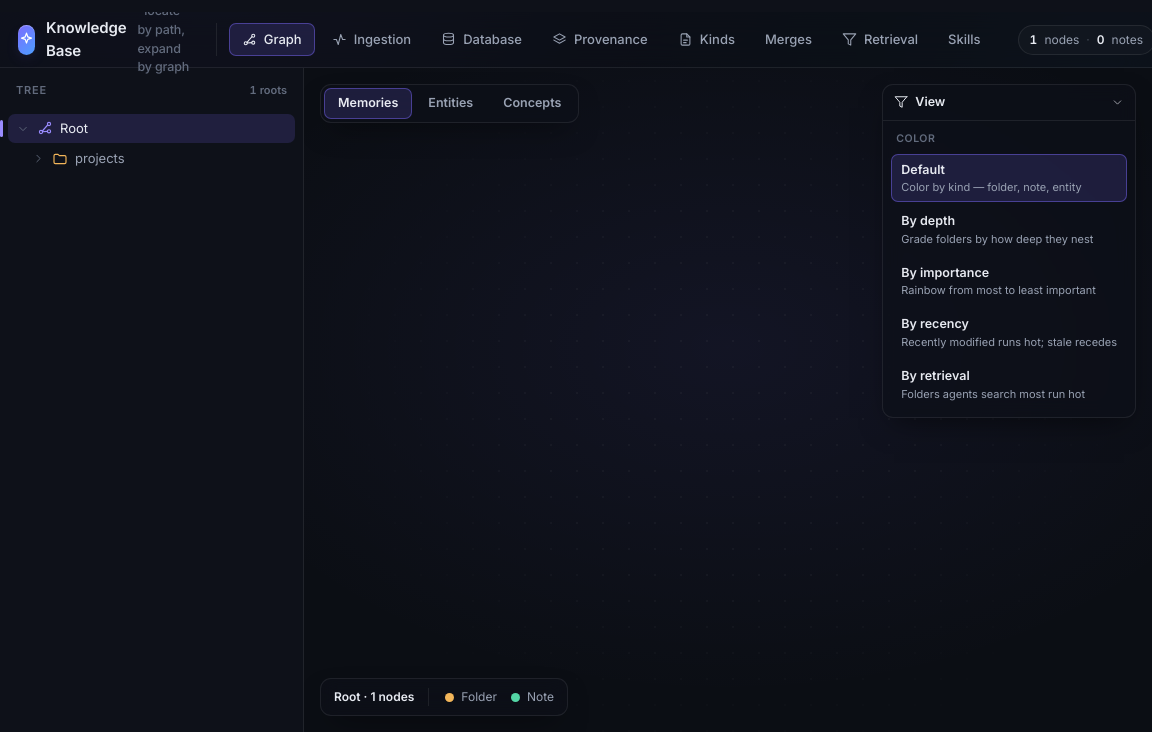
Test: App › switches to the isolated entity graph via the Entities toggle
expect the text "projects" is shown: met, box [75,149,125,168]
Step 1. Click the button "Entities" → (451, 103), box [414,88,487,119]
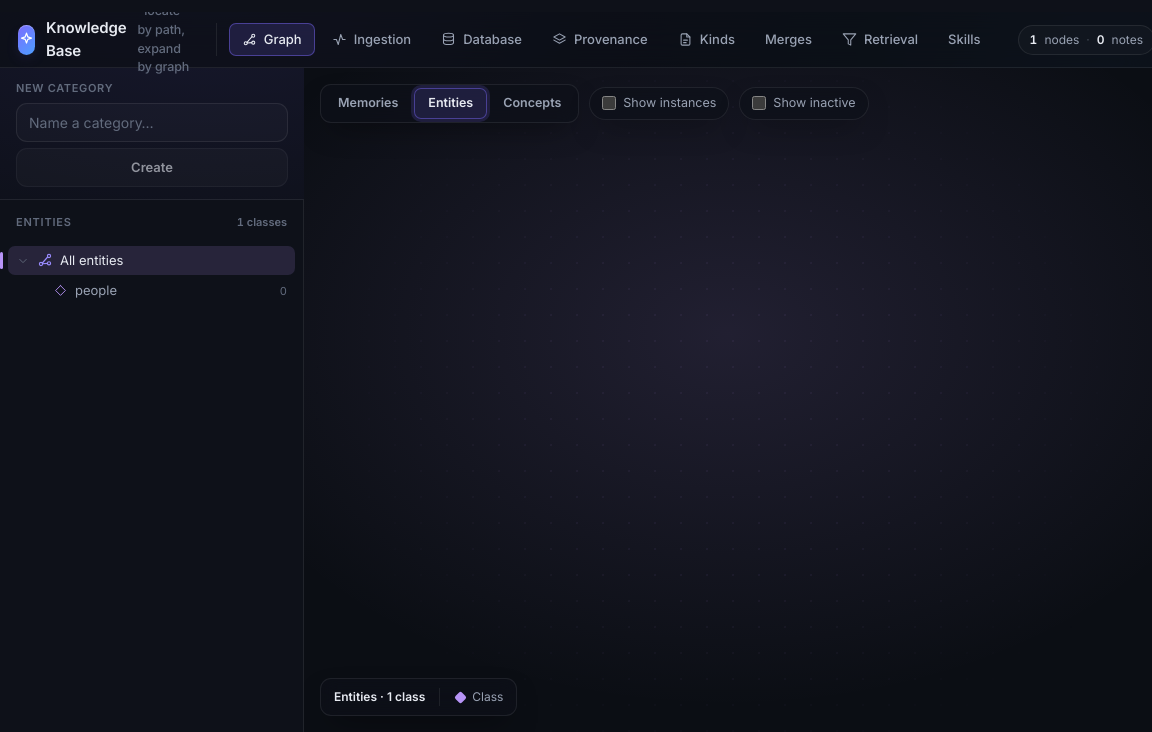
expect the text "All entities" is shown: met, box [60,250,123,270]
expect the text "people" is shown: met, box [75,281,117,300]
